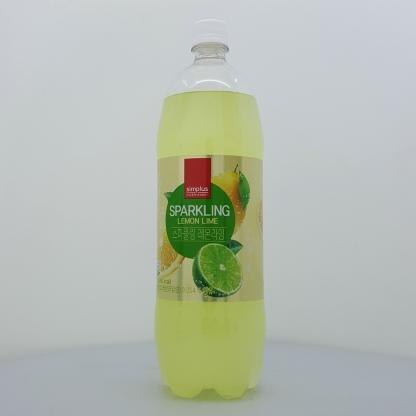----------------: (154, 19, 266, 399)
